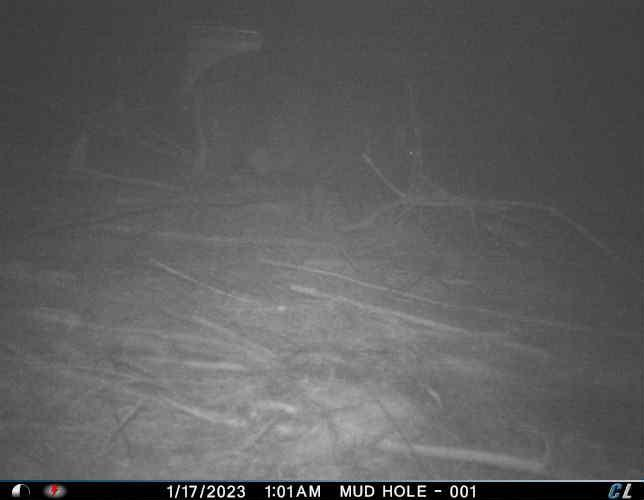Hog: (166, 50, 427, 238)
